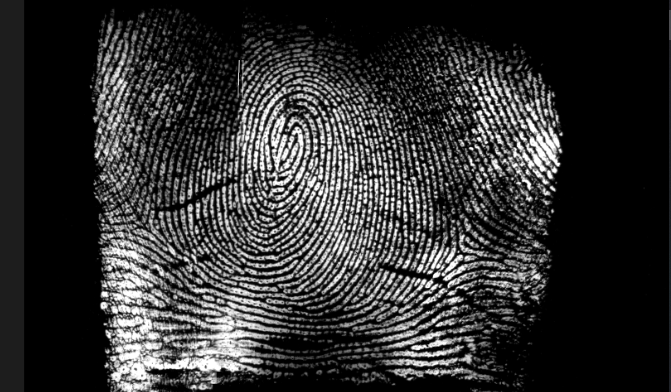nucelo: (277, 124, 307, 167)
verticilo: (138, 212, 163, 242), (445, 241, 470, 263)
